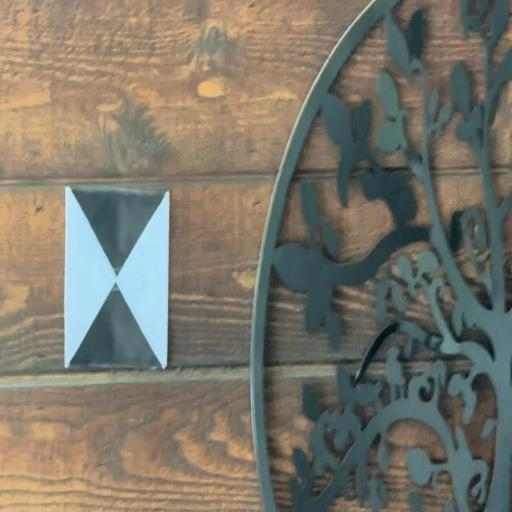target: (64, 186, 169, 369)
